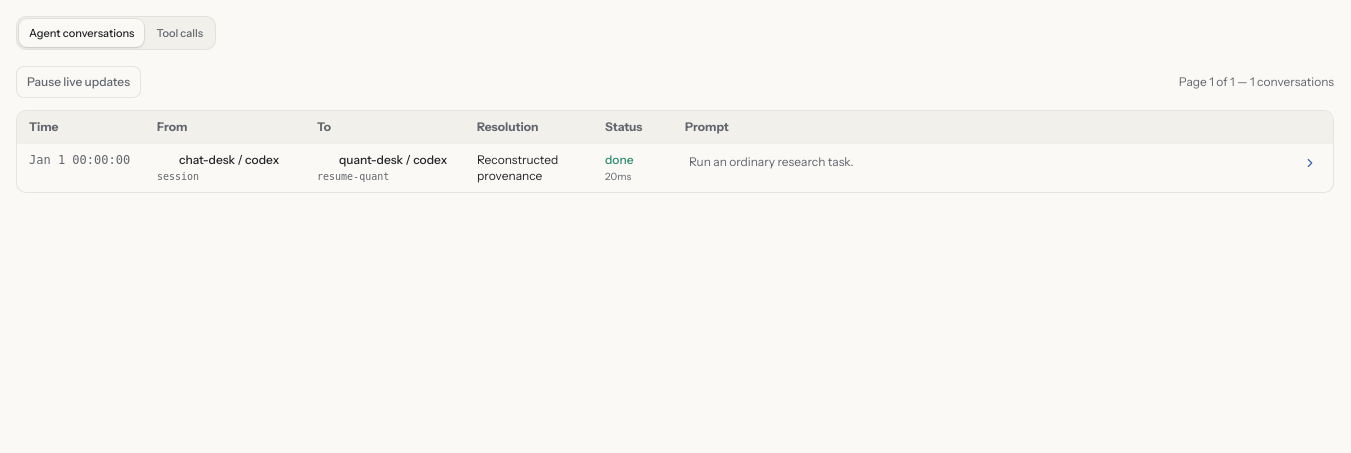
Test: LogsPage Agent conversations › shows Harness-default addressing in the routing detail
This screenshot has width=1351, height=453.
Click the button "Run an ordinary research task.".
click(771, 162)  # box [685,152,1321,172]
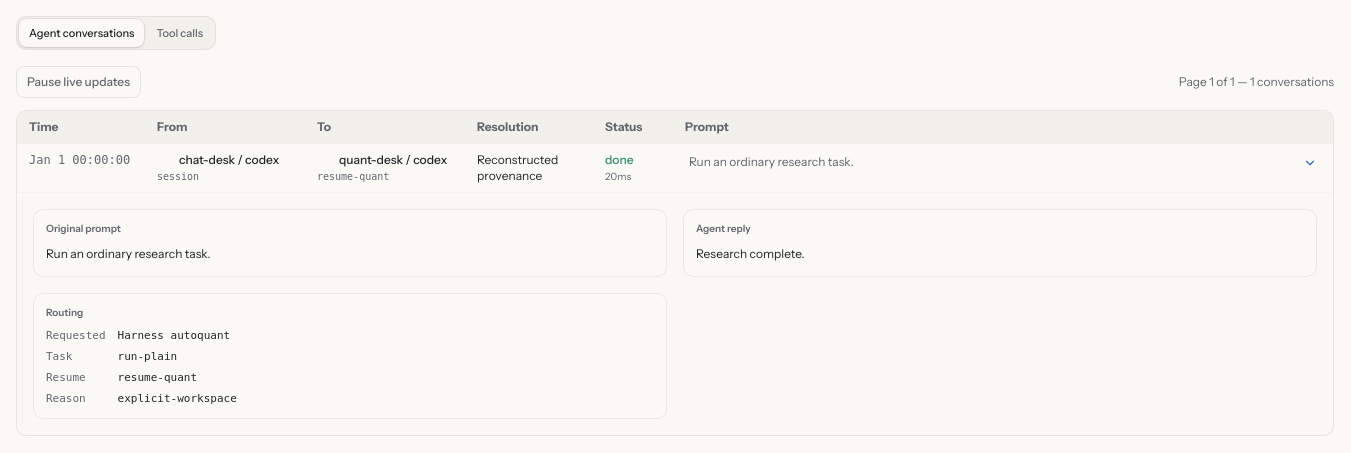
Expected: the text "Harness autoquant" is shown, [118,328,230,342]
